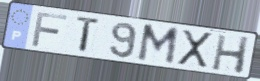9: (107, 21, 139, 60)
F: (30, 11, 70, 49)
H: (210, 33, 252, 76)
M: (135, 23, 181, 67)
T: (75, 15, 103, 55)
X: (176, 28, 214, 69)
